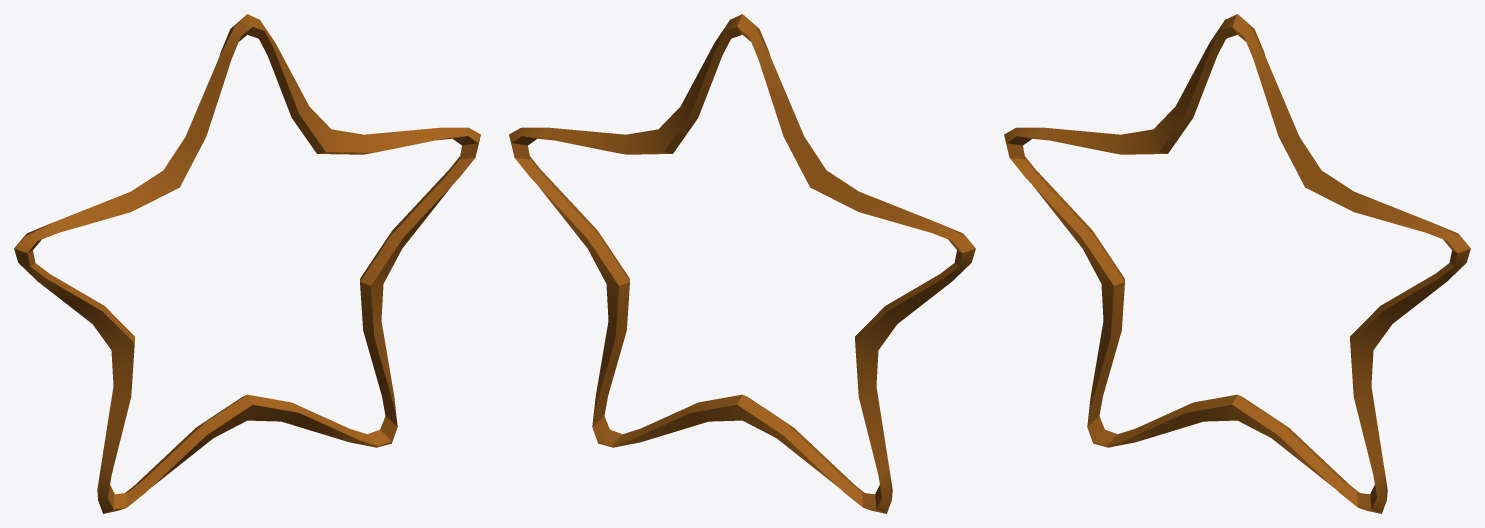
The model's file is Star_Outline.fbx.
The picture shows the model from 3 angles, left to right: view 1: azimuth 30°, elevation 25°; view 2: azimuth 150°, elevation 25°; view 3: azimuth 330°, elevation 25°; orthographic projection.
Visible parts, largest first — view 1: Star_Outline; view 2: Star_Outline; view 3: Star_Outline.
Part boxes in pixels (x1,y1,x2,y2): Star_Outline: [14, 14, 480, 513]; Star_Outline: [509, 14, 975, 513]; Star_Outline: [1004, 14, 1470, 513].
Bounding box in the file's own units: 151 × 144 × 5.94.
